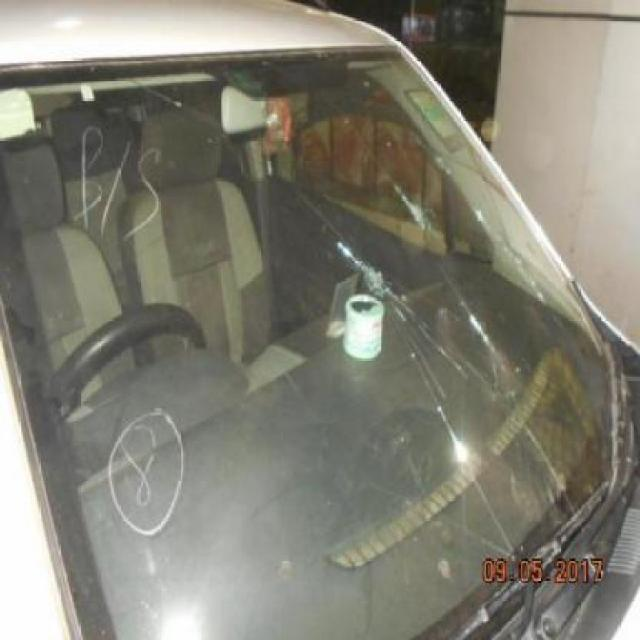damage: (353, 233, 391, 313), (402, 179, 436, 260), (444, 309, 481, 343), (401, 340, 430, 364), (472, 173, 484, 228), (511, 245, 527, 273)
